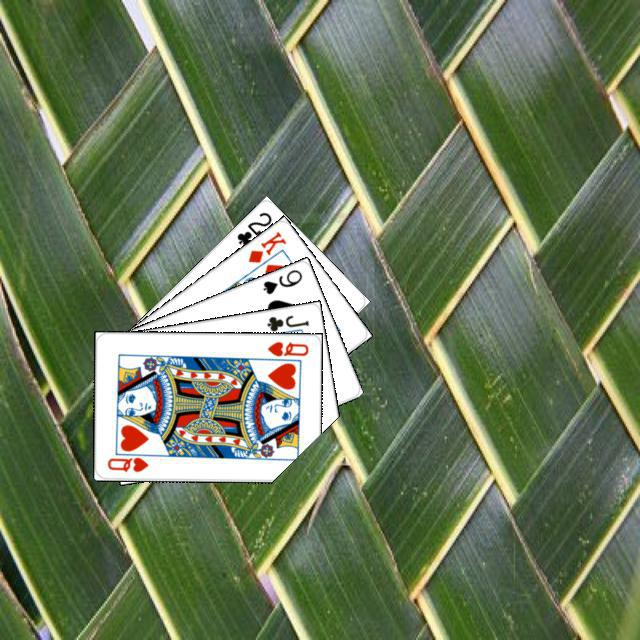2c: (232, 207, 274, 248)
9s: (258, 264, 304, 296)
Jc: (262, 310, 311, 333)
Kd: (243, 226, 288, 265)
Qh: (103, 449, 155, 474), (262, 336, 310, 358)
